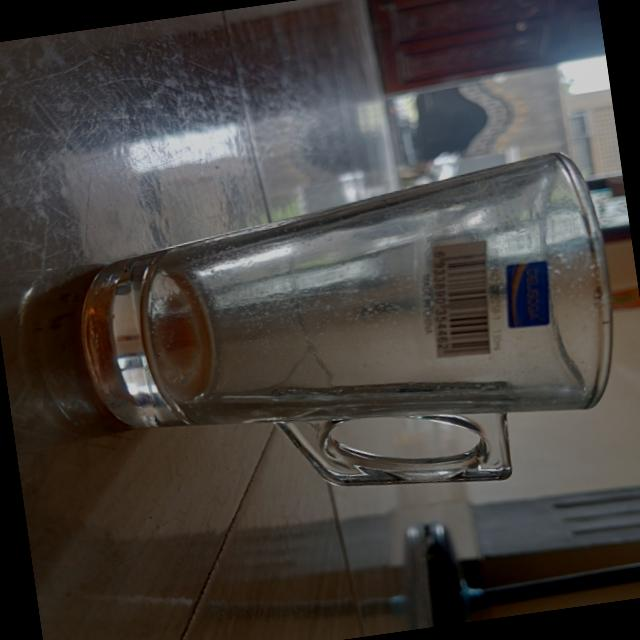glass-VX4N: (62, 146, 634, 543)
